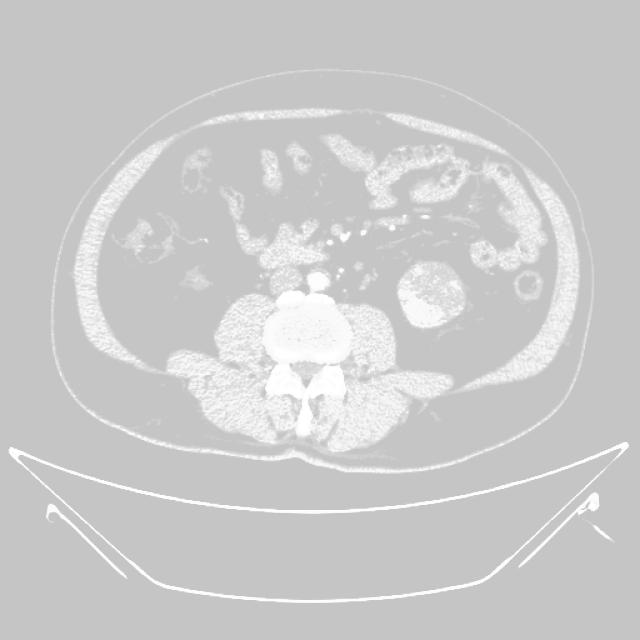TUMOR: (306, 209, 537, 349)
